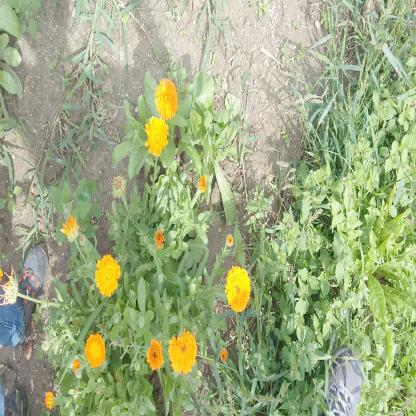marigold: (95, 254, 119, 296), (171, 332, 196, 372), (228, 269, 250, 310), (156, 80, 178, 117), (147, 119, 168, 154), (86, 334, 105, 367)
